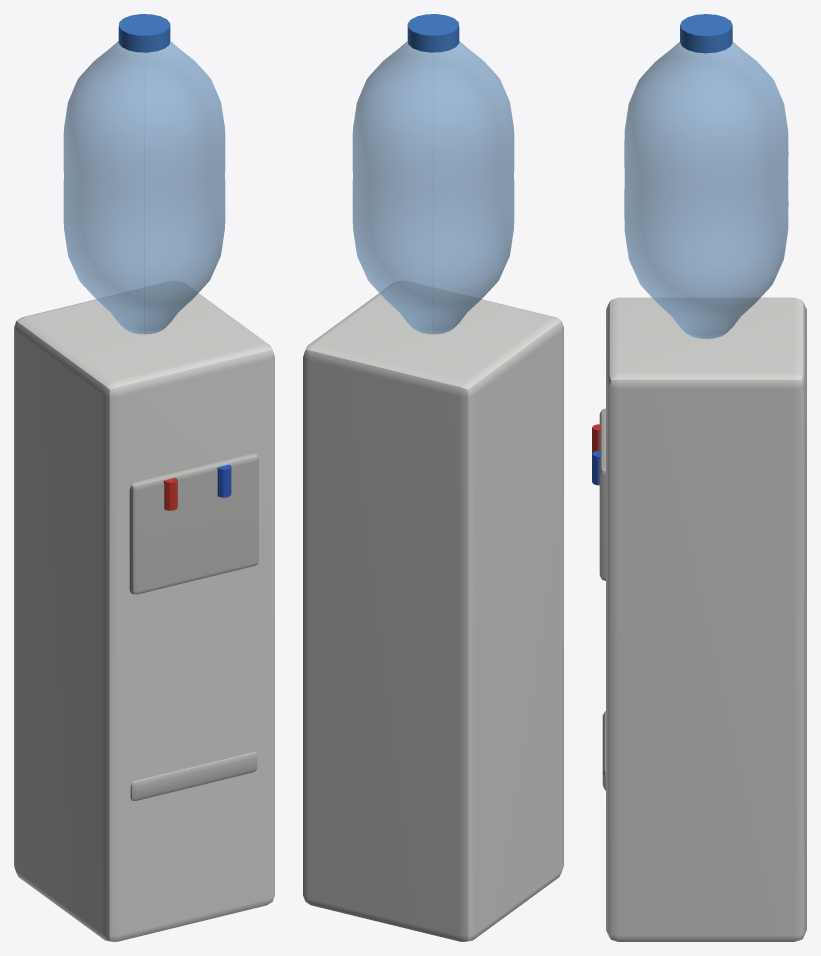
File: cay_nuoc.glb
3 views of the same model, side by side, from view 1: azimuth 30°, elevation 25°; view 2: azimuth 150°, elevation 25°; view 3: azimuth 270°, elevation 25° (orthographic).
Parts seen in each view (by area): view 1: cay_nuoc; view 2: cay_nuoc; view 3: cay_nuoc.
Part boxes in pixels (x1,y1,x2,y2): cay_nuoc: (14,14,274,941); cay_nuoc: (303,14,563,941); cay_nuoc: (592,14,806,941).
Bounding box in the file's own units: 0.32 × 1.54 × 0.342.
